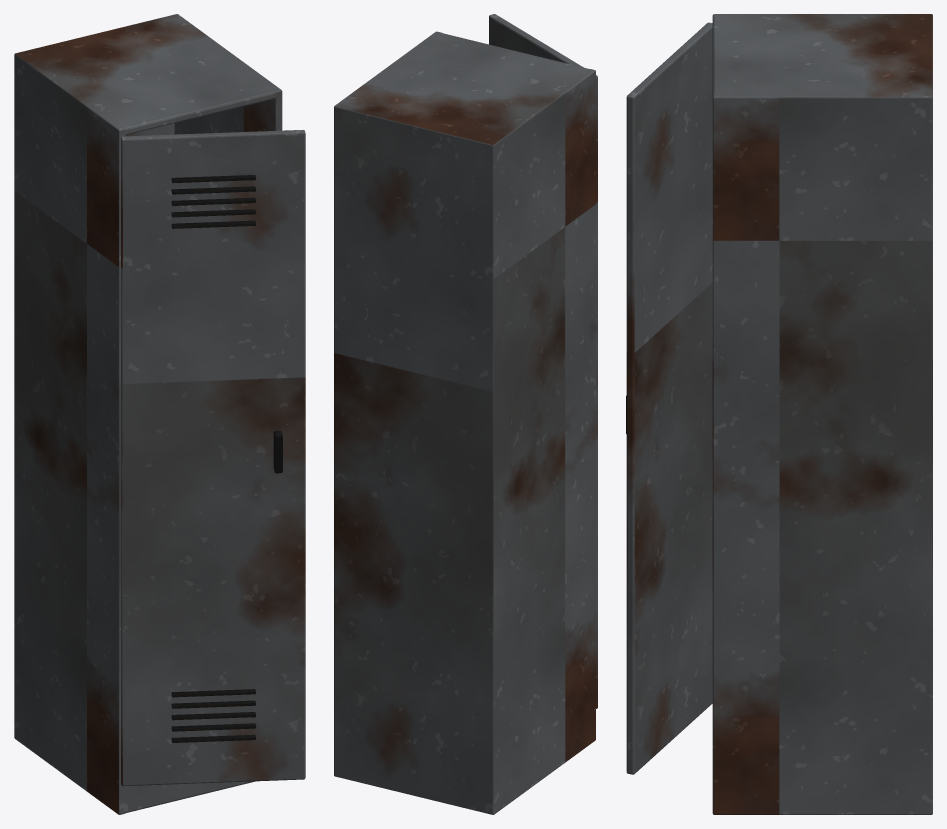
The model's file is F14_metal_locker.glb.
3 renders of one model, left to right at view 1: azimuth 30°, elevation 25°; view 2: azimuth 150°, elevation 25°; view 3: azimuth 270°, elevation 25°, orthographic. The views are drawn at different scales.
Parts seen in each view (by area): view 1: F14_metal_locker; view 2: F14_metal_locker; view 3: F14_metal_locker.
Part boxes in pixels (bbox=[...]): F14_metal_locker: bbox=[14, 14, 305, 814]; F14_metal_locker: bbox=[334, 14, 597, 814]; F14_metal_locker: bbox=[626, 14, 932, 814].
Size of the model in its own units: 0.45 by 1.8 by 0.6972.
Materials: 2 (2 with a texture image).
